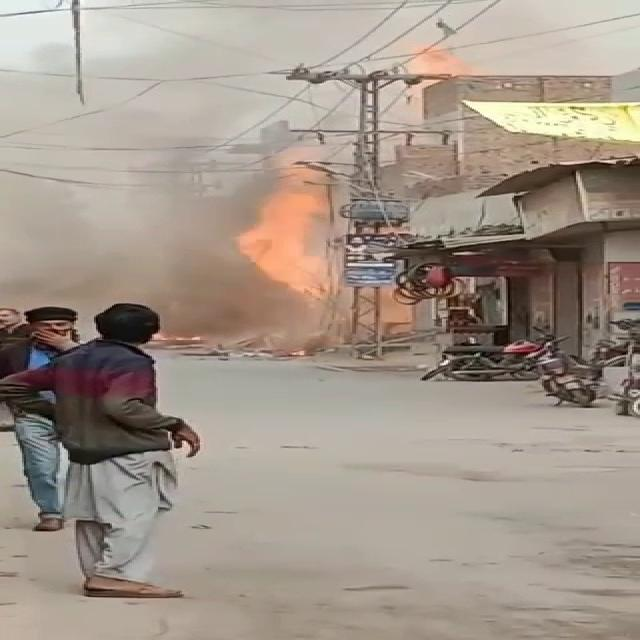Fire: (236, 163, 336, 301), (400, 47, 494, 82)
Smoke: (22, 146, 292, 332)
